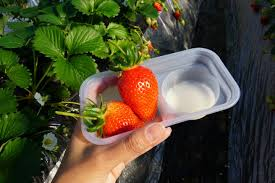ripe: (116, 62, 161, 126), (91, 103, 143, 144)
